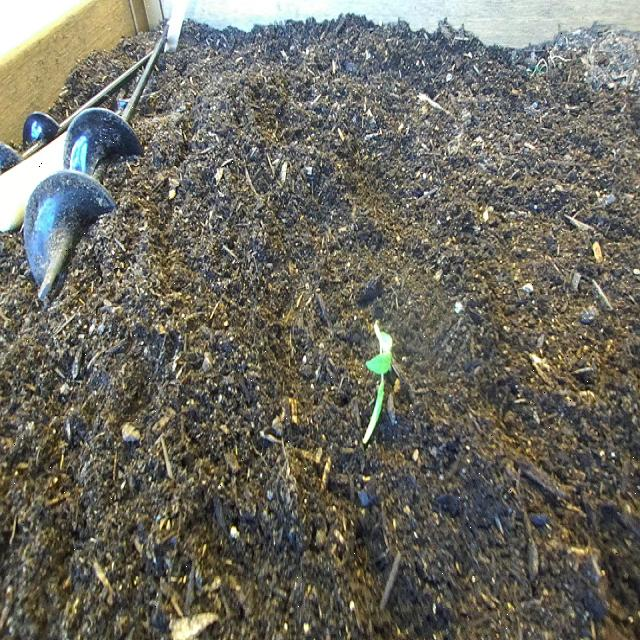Healthy: (357, 310, 395, 455)
